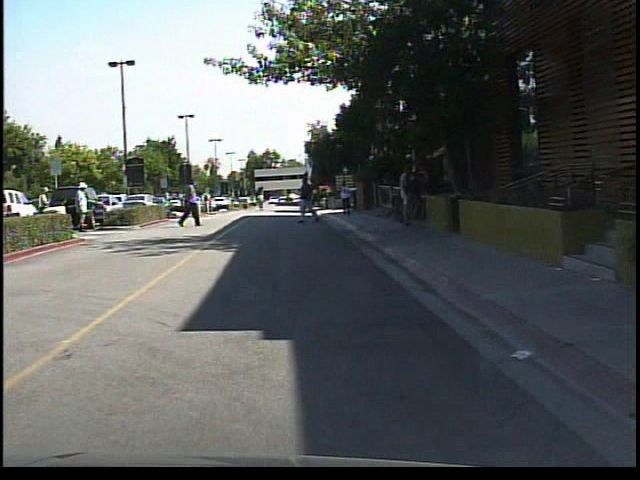person: (394, 154, 423, 234), (296, 167, 324, 225), (179, 172, 206, 232), (74, 177, 97, 234), (413, 165, 434, 226), (36, 182, 58, 237), (338, 176, 355, 219), (201, 188, 214, 218), (254, 189, 270, 212)
